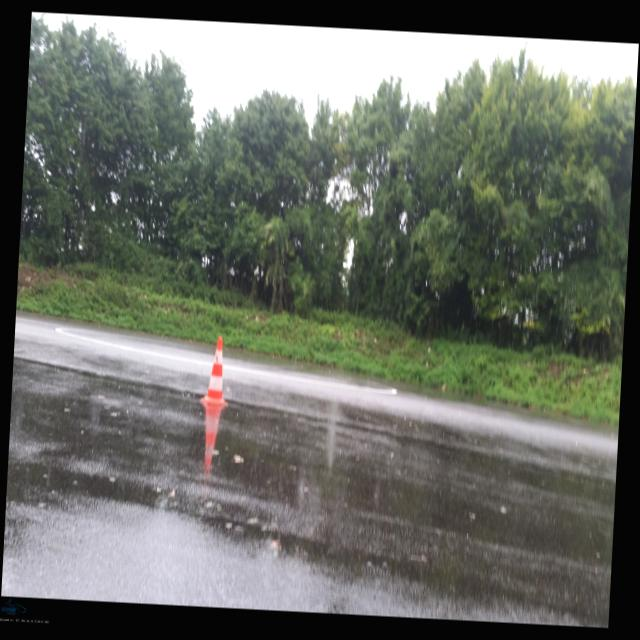large_orange_cone: (200, 336, 232, 406)
